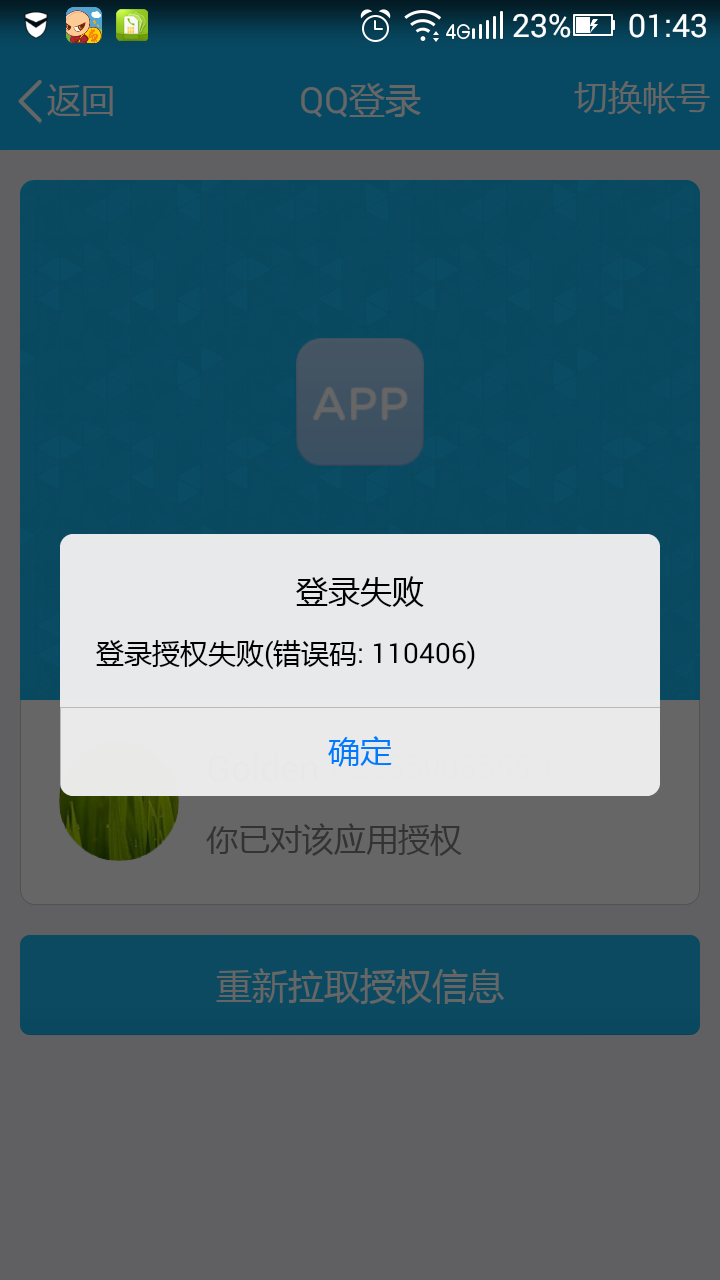alert: (54, 533, 663, 804)
